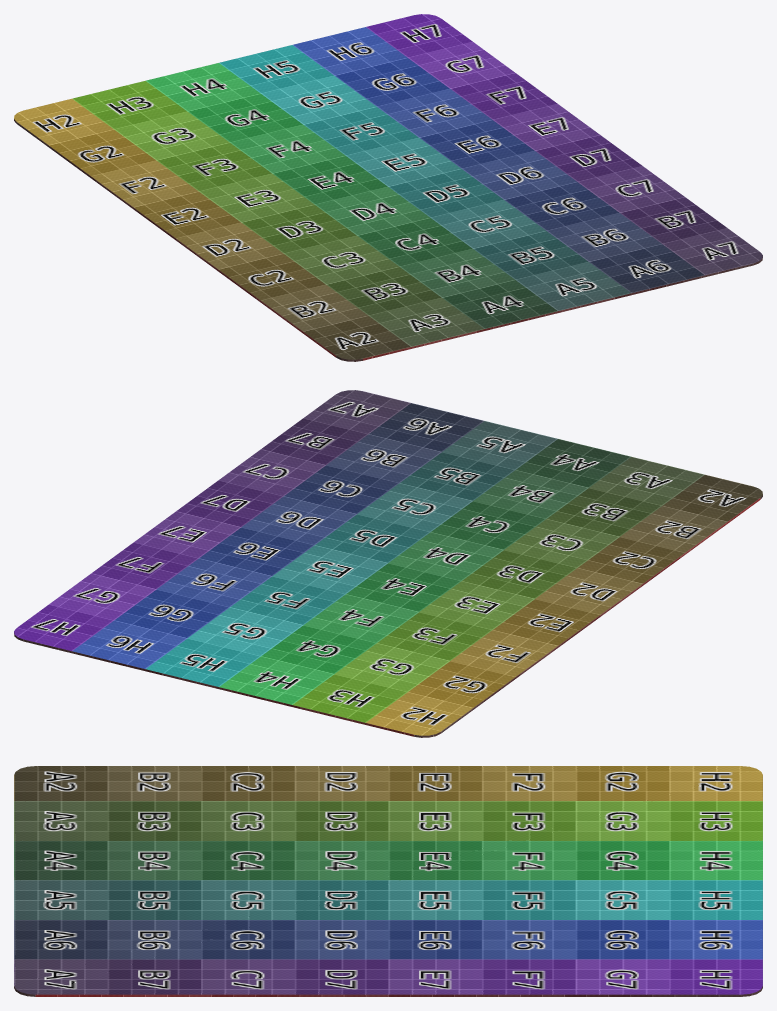
File: Card.glb
3 views of the same model, one above another, from view 1: azimuth 30°, elevation 25°; view 2: azimuth 150°, elevation 25°; view 3: azimuth 270°, elevation 25° (orthographic). The views are drawn at different scales.
Visible parts, largest first — view 1: PlayingCard; view 2: PlayingCard; view 3: PlayingCard.
Boxes of the visible parts, left/top/right/bottom form: PlayingCard: left=14, top=14, right=762, bottom=361; PlayingCard: left=14, top=390, right=762, bottom=737; PlayingCard: left=14, top=766, right=762, bottom=996.
Size of what is drawn, in the model's own units: 0.065 by 0.0003 by 0.09.
Materials: 1 (1 with a texture image).
